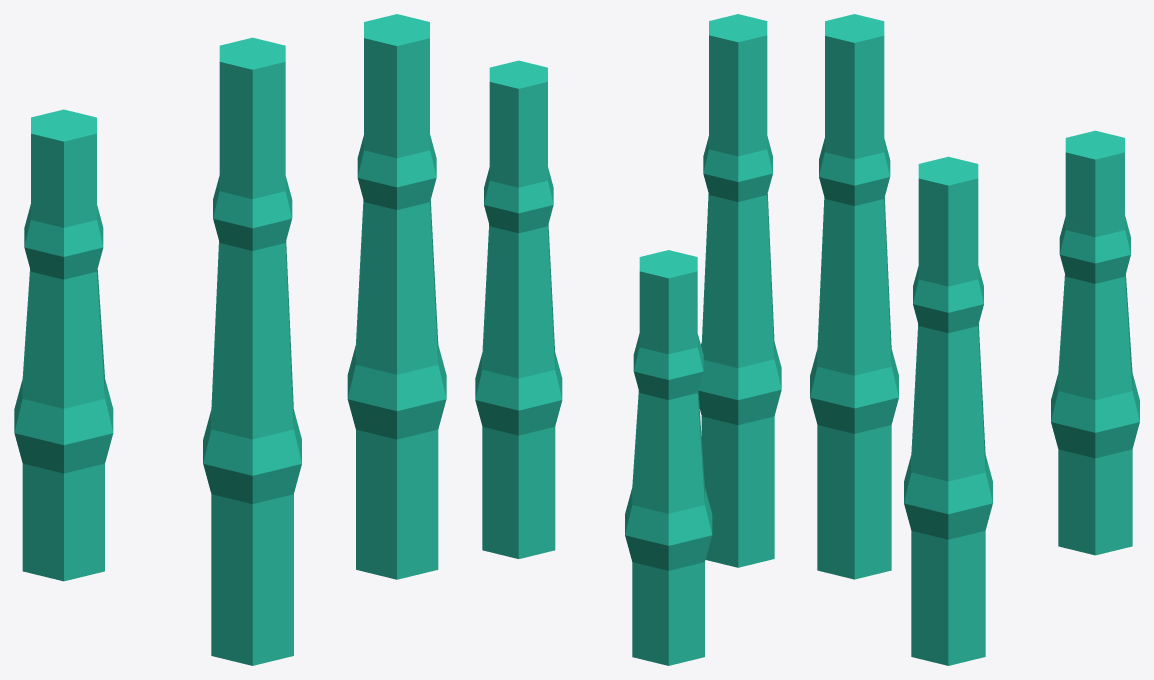
The model's file is crops_bambooStageA.dae.
The picture shows the model from 3 angles, left to right: view 1: azimuth 30°, elevation 25°; view 2: azimuth 150°, elevation 25°; view 3: azimuth 270°, elevation 25°; orthographic projection. The views are drawn at different scales.
Parts seen in each view (by area): view 1: crops_bambooStageA; view 2: crops_bambooStageA; view 3: crops_bambooStageA.
Part boxes in pixels (x1,y1,x2,y2): crops_bambooStageA: (14,14,446,665); crops_bambooStageA: (475,14,781,665); crops_bambooStageA: (810,14,1139,665).
Size of the model in its own units: 0.3401 by 0.549 by 0.308.
